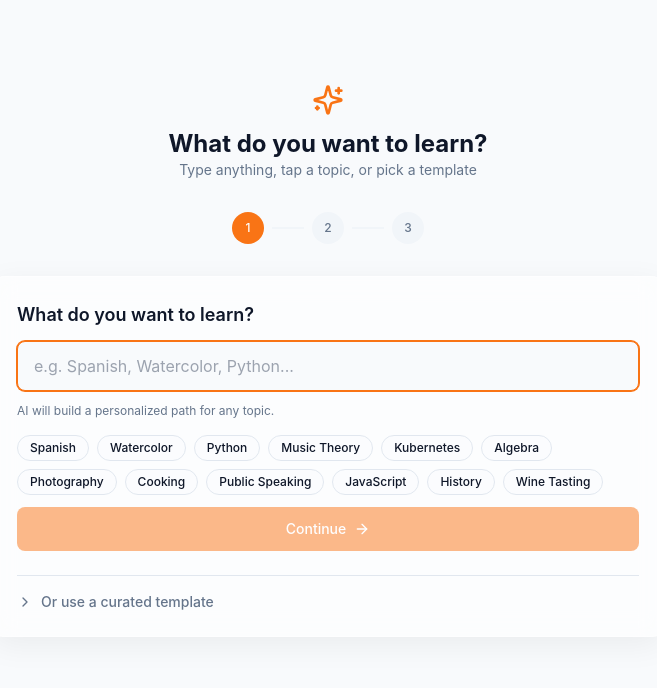
Test case: Onboarding template + free-text wizard flow › expanding templates reveals bundled packs and My Skills section
The image size is (657, 688).
Click the button with test id "templates-toggle": (127, 601) 17,592 -> 639,612
(page scrolled)
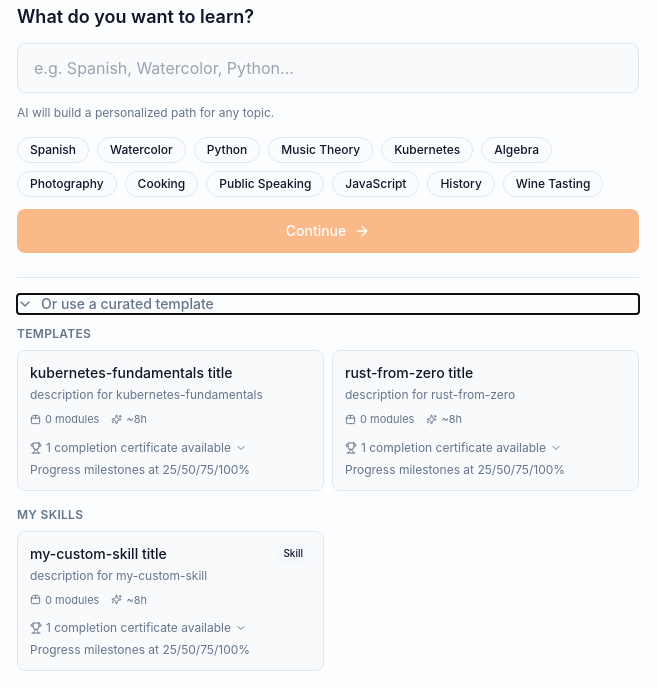
Expected: the heading "My Skills" is shown, 17,506 -> 83,522
Expected: the button with test id "pack-card-kubernetes-fundamentals" is shown, 17,350 -> 324,490
Expected: the button with test id "pack-card-my-custom-skill" is shown, 17,530 -> 324,671
